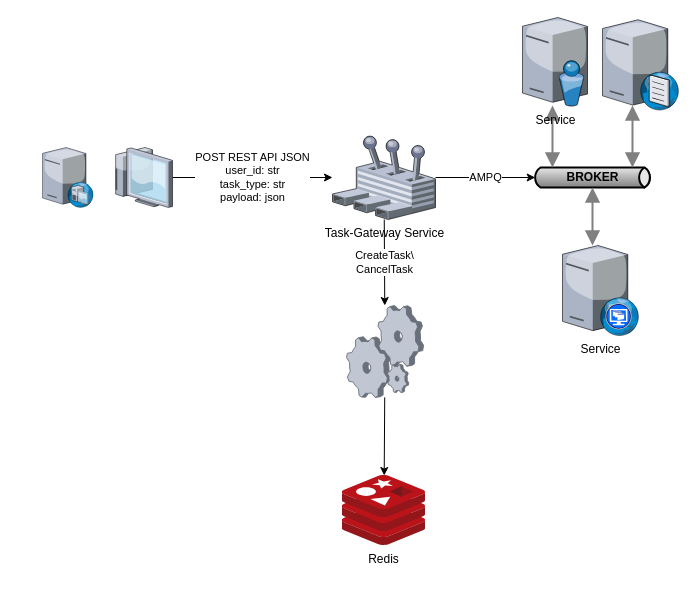
The diagram is 697 pixels wide and 598 high, and some of its shapes have lost their labels. Here are the shapes that lost their labels. From the top down, the box of each, then its label:
(42, 147, 93, 207): Third Party Service
(112, 147, 172, 207): Client
(346, 305, 423, 397): WebhookManager Service
